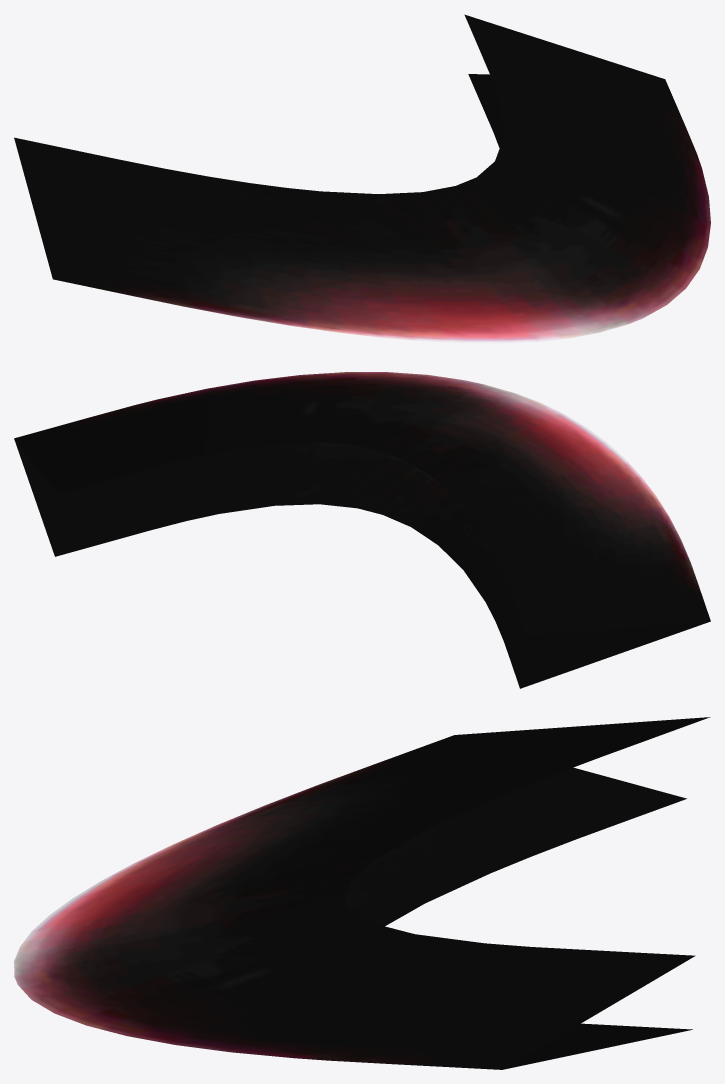
Rendered from 024_Kenso@Spell3_Atk2_l.fbx.
3 renders of one model, top to bottom at view 1: azimuth 30°, elevation 25°; view 2: azimuth 150°, elevation 25°; view 3: azimuth 270°, elevation 25°, orthographic. The views are drawn at different scales.
Parts seen in each view (by area): view 1: 01_trail_b; view 2: 01_trail_b; view 3: 01_trail_b.
Boxes of the visible parts, x1,y1,x2,y2 form: 01_trail_b: [14, 14, 710, 343]; 01_trail_b: [14, 372, 710, 688]; 01_trail_b: [14, 717, 710, 1069].
Size of the model in its own units: 7.71 by 1.03 by 6.09.
Materials: 1 (1 with a texture image).
